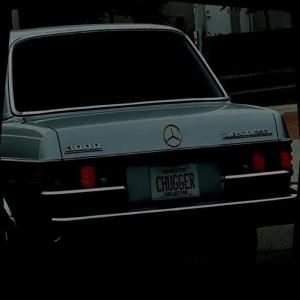Plate: (148, 162, 200, 201)
